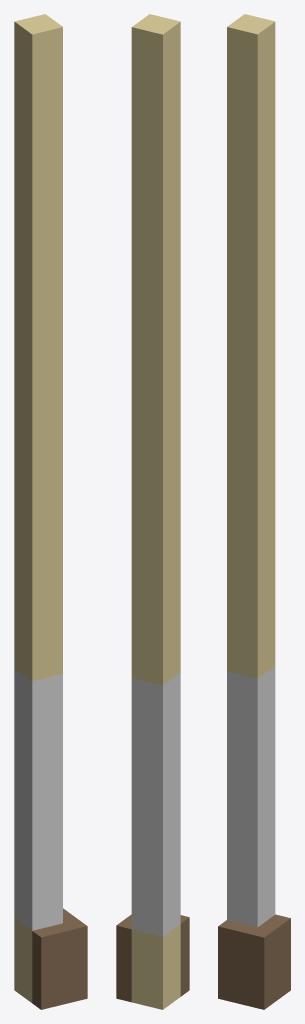
File: Mesh_WallBaseboard2Colors_I6.fbx
3 renders of one model, left to right at view 1: azimuth 30°, elevation 25°; view 2: azimuth 150°, elevation 25°; view 3: azimuth 330°, elevation 25°, orthographic.
Parts seen in each view (by area): view 1: Mesh_WallBaseboard2Colors_I6; view 2: Mesh_WallBaseboard2Colors_I6; view 3: Mesh_WallBaseboard2Colors_I6.
Boxes of the visible parts, left/top/right/bottom form: Mesh_WallBaseboard2Colors_I6: left=14, top=14, right=87, bottom=1009; Mesh_WallBaseboard2Colors_I6: left=116, top=14, right=189, bottom=1009; Mesh_WallBaseboard2Colors_I6: left=218, top=14, right=290, bottom=1009.
Size of the model in its own units: 0.15 by 3 by 0.15.
